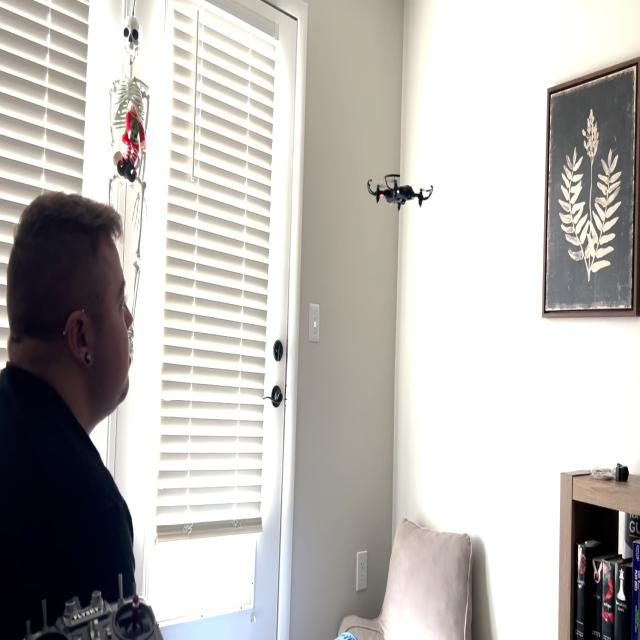drone: (361, 163, 437, 221)
